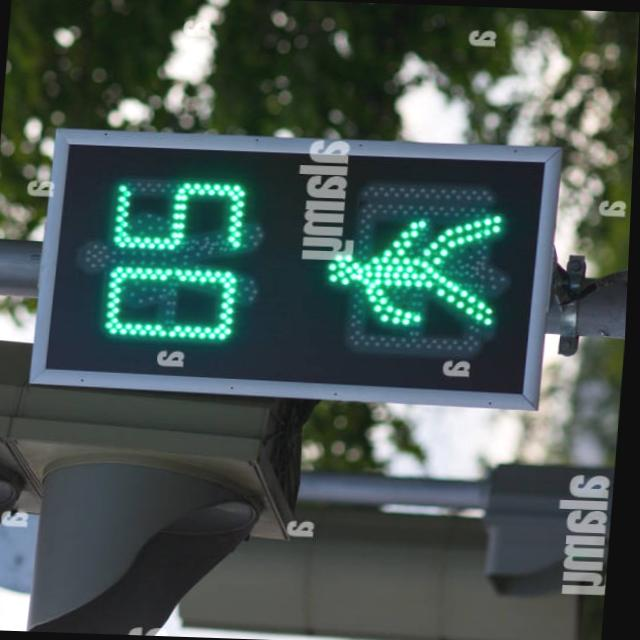green_light: (323, 215, 510, 327)
